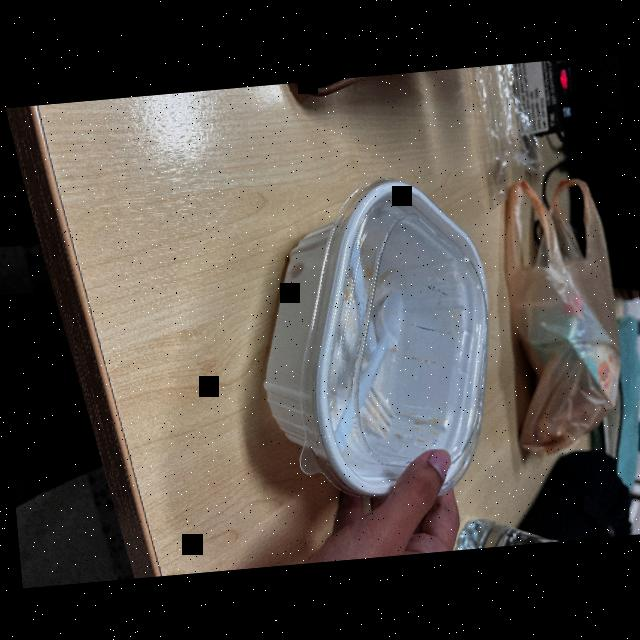plastic_box: (241, 166, 516, 526)
